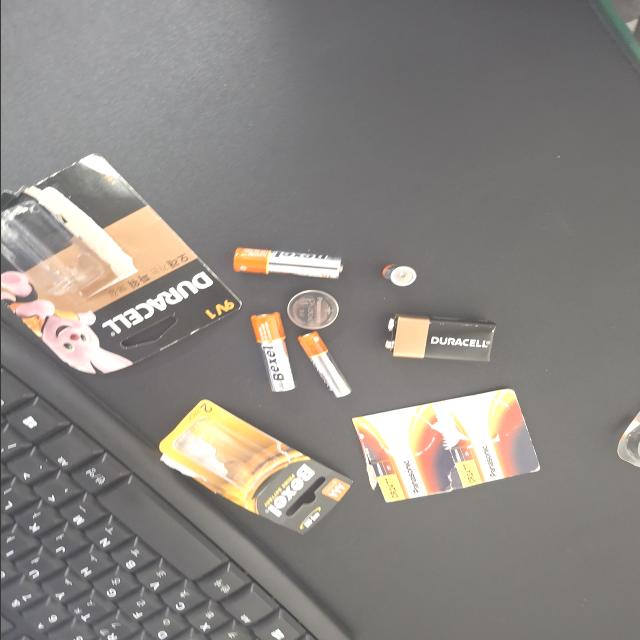9V: (206, 110, 268, 192)
AA: (203, 259, 309, 293), (117, 224, 158, 306)
AAA: (229, 217, 317, 257), (140, 168, 168, 192)
COIN: (173, 227, 226, 265)
